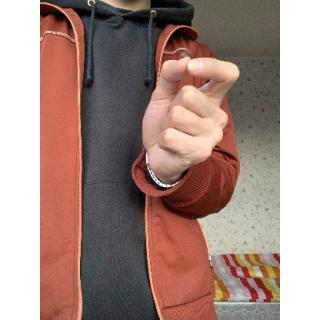FAA: (134, 51, 244, 183)
